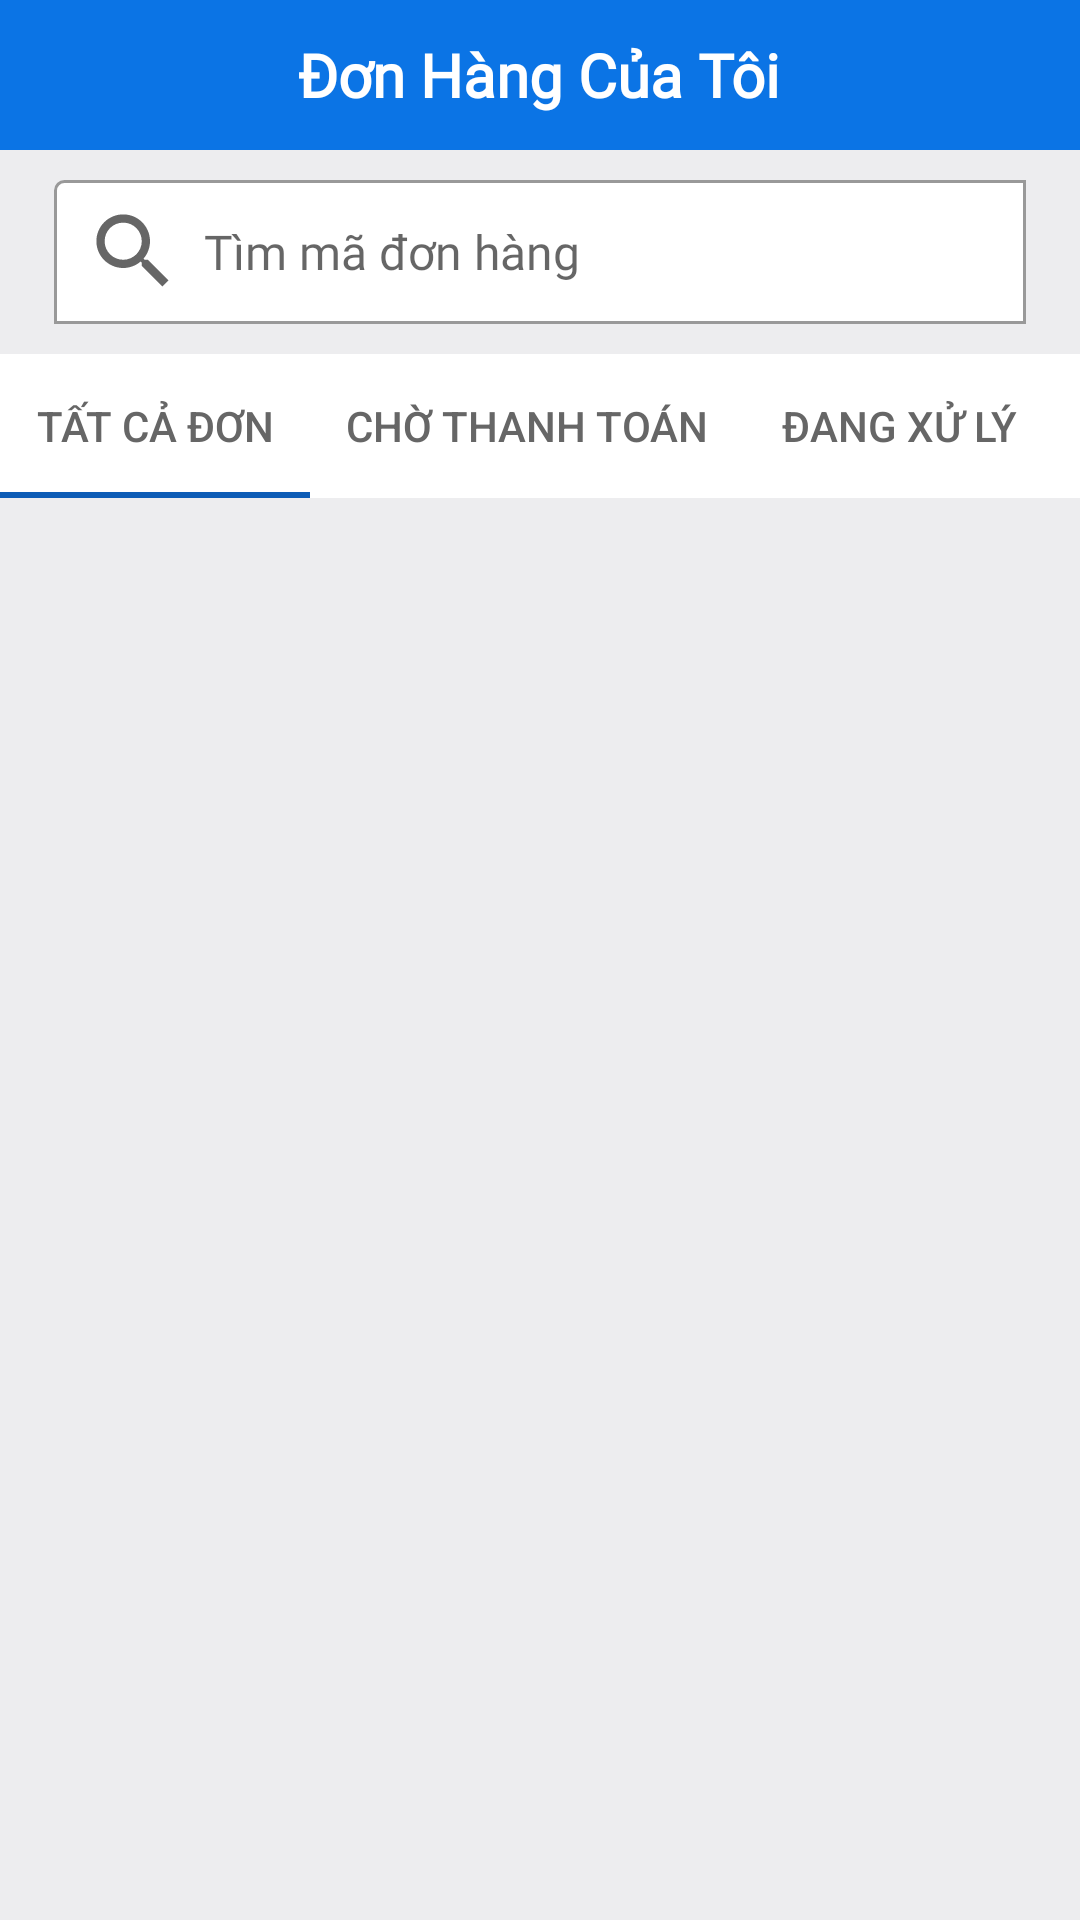

Icons on this 1080w x 1920h Android screen, each with the point to tap as (x,y):
search icon: (132,250)
